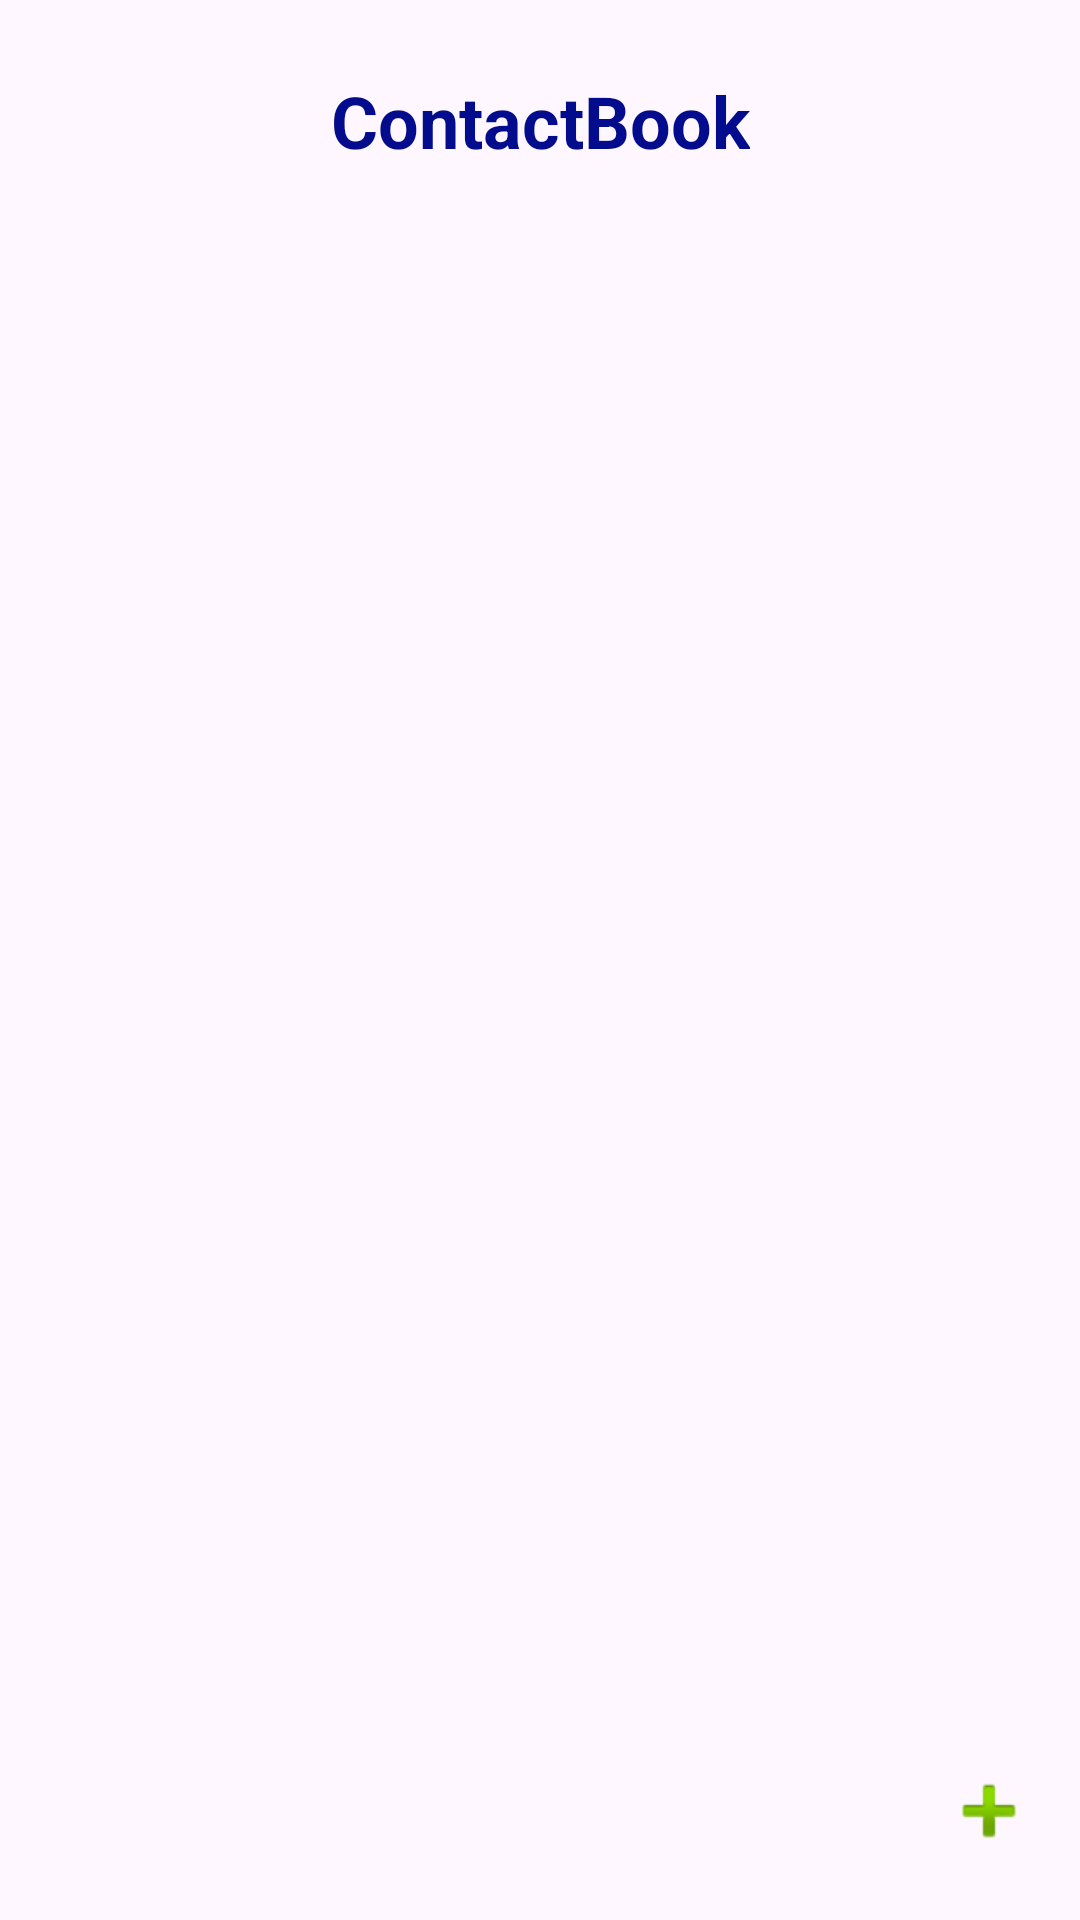

Icons on this 1080px×1920px Android screen, each with the point to tap as (x,y):
Add contact: (989,1811)
